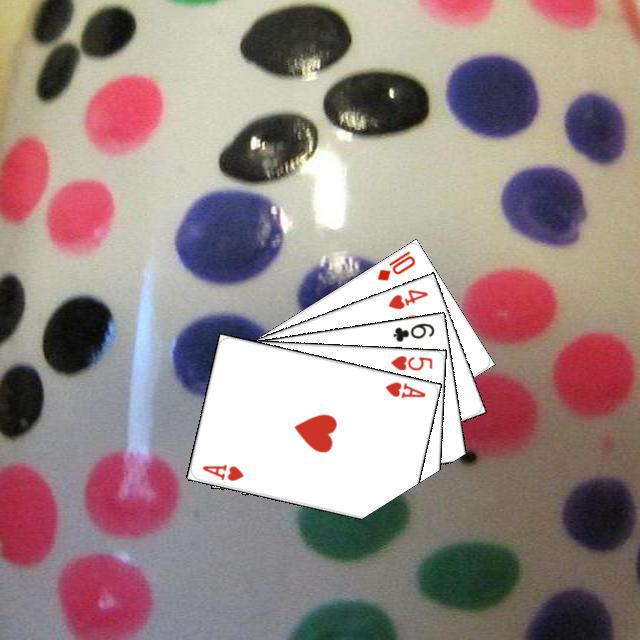10d: (372, 246, 417, 283)
4h: (383, 284, 430, 311)
5h: (386, 351, 434, 372)
6c: (388, 318, 436, 343)
Ah: (197, 459, 245, 483), (380, 377, 427, 400)
